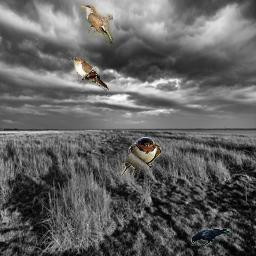Crow: (191, 228, 231, 246)
Cuckoo: (69, 57, 109, 91), (80, 5, 113, 45)
Swallow: (121, 137, 161, 176)
